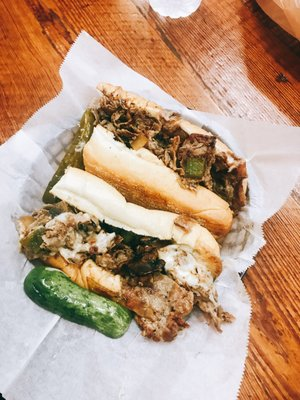soup: (16, 84, 246, 342)
